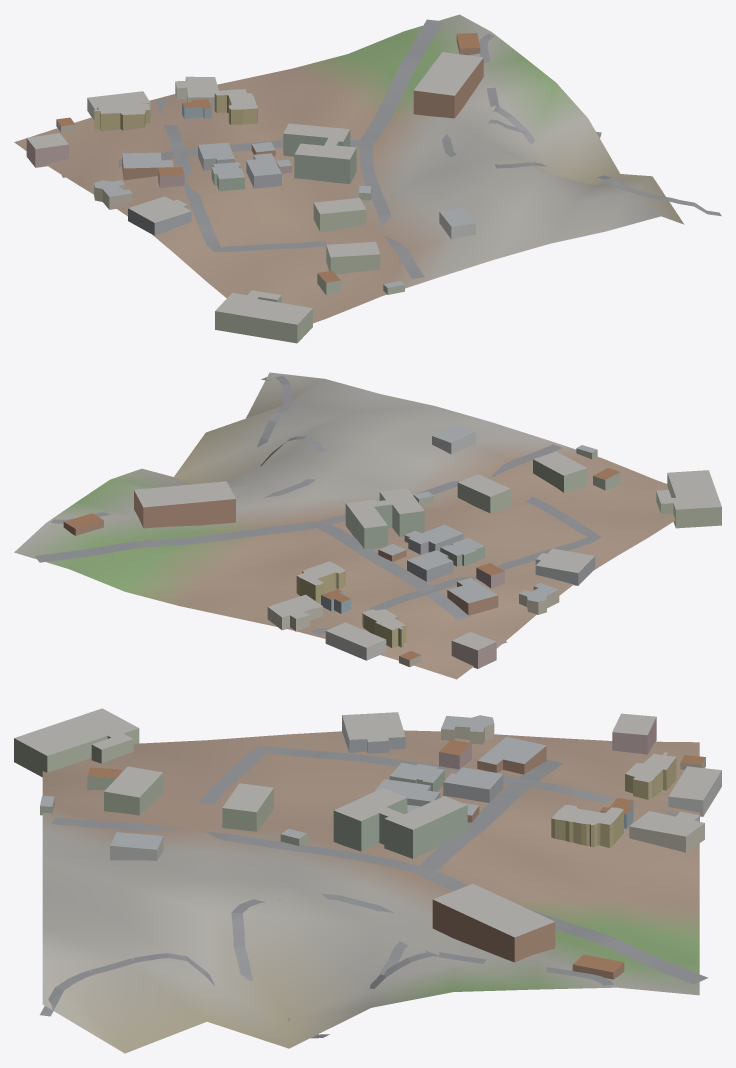
The picture shows the model from 3 angles, top to bottom: view 1: azimuth 30°, elevation 25°; view 2: azimuth 150°, elevation 25°; view 3: azimuth 270°, elevation 25°; orthographic projection. The views are drawn at different scales.
Parts seen in each view (by area): view 1: Lo; view 2: Lo; view 3: Lo.
Boxes of the visible parts, x1,y1,x2,y2 form: Lo: [14, 14, 721, 343]; Lo: [14, 372, 721, 679]; Lo: [14, 708, 721, 1053].
Bounding box in the file's own units: 278 × 37 × 276.
